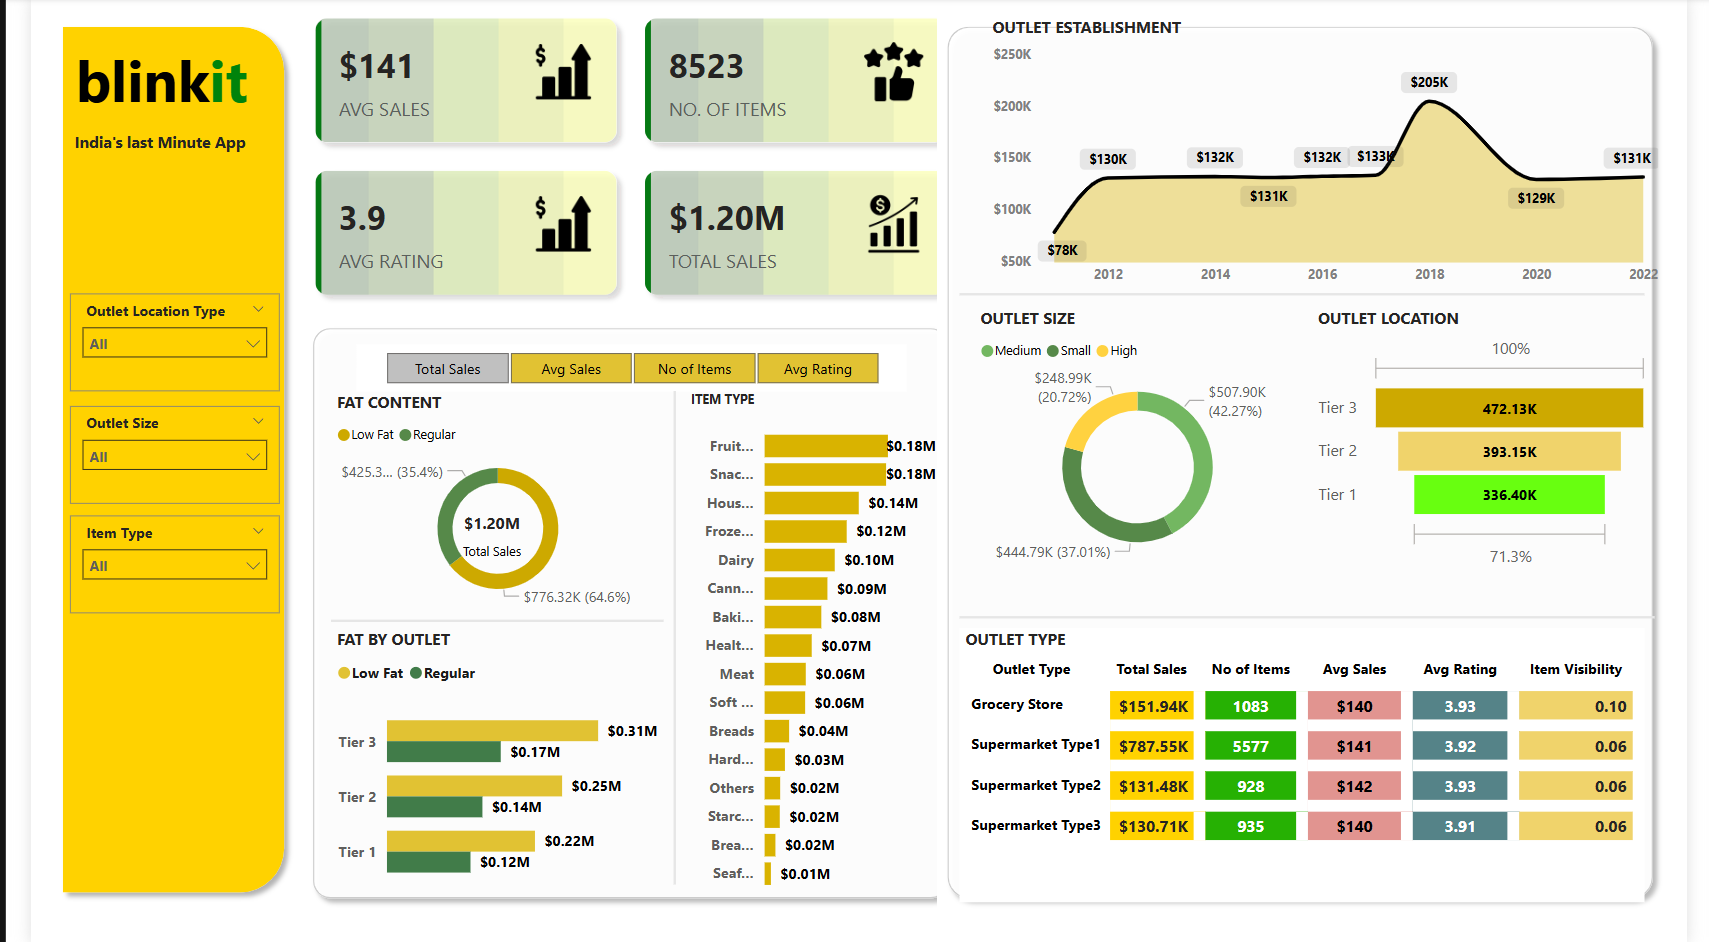

Layout of this report page (visuals, bound fields, positions):
{"tool":"powerbi","page":{"name":"Page 1","canvas":[1400,800],"ordinal":0},"visuals":[{"type":"shape","box":[18.2,14.9,205.4,750.2],"z":0},{"type":"textbox","box":[272.5,0,205,750],"z":1000},{"type":"textbox","box":[33.1,29.8,177.2,76.2],"z":2000},{"type":"textbox","box":[31.5,106,177.2,38.1],"z":3000},{"type":"cardVisual","fields":{"Data":["BlinkIT Grocery Data.Avg Sales","BlinkIT Grocery Data.No of Items","BlinkIT Grocery Data.Avg Rating","BlinkIT Grocery Data.Total Sales"]},"box":[223.6,0,569.7,270],"z":4000},{"type":"shape","box":[230.2,270,554.8,500.2],"z":5000},{"type":"donutChart","title":"FAT CONTENT","fields":{"Y":["BlinkIT Grocery Data.Total Sales"],"Category":["BlinkIT Grocery Data.Item Fat Content"]},"box":[253.4,332.9,281.5,187.1],"z":6000},{"type":"slicer","fields":{"Values":["Metrics.Metrics"]},"box":[274.9,293.1,465.4,39.7],"z":7000},{"type":"cardVisual","fields":{"Data":["BlinkIT Grocery Data.Total Sales"]},"box":[346.1,415.7,87.8,77.8],"z":8000},{"type":"clusteredBarChart","title":"FAT BY OUTLET","fields":{"Y":["BlinkIT Grocery Data.Total Sales"],"Category":["BlinkIT Grocery Data.Outlet Location Type"],"Series":["BlinkIT Grocery Data.Item Fat Content"]},"box":[253.7,532.8,281.6,232.1],"z":9000},{"type":"shape","box":[253.4,520,281.5,13.2],"z":10000},{"type":"shape","box":[534.9,332.9,18.2,417.4],"z":11000},{"type":"barChart","title":"ITEM TYPE","fields":{"Y":["BlinkIT Grocery Data.Total Sales"],"Category":["BlinkIT Grocery Data.Item Type"]},"box":[553.2,332.9,217,432.3],"z":12000},{"type":"shape","box":[766.8,14.9,614.4,755.2],"z":13000},{"type":"lineChart","title":"OUTLET ESTABLISHMENT ","fields":{"Y":["BlinkIT Grocery Data.Total Sales"],"Category":["BlinkIT Grocery Data.Outlet Establishment Year"]},"box":[808.2,14.9,573,235.2],"z":14000},{"type":"donutChart","title":"OUTLET SIZE","fields":{"Y":["BlinkIT Grocery Data.Total Sales"],"Category":["BlinkIT Grocery Data.Outlet Size"]},"box":[798.3,261.7,274.9,225.2],"z":15000},{"type":"funnel","title":"OUTLET LOCATION","fields":{"Y":["Sum(BlinkIT Grocery Data.Sales)"],"Category":["BlinkIT Grocery Data.Outlet Location Type"]},"box":[1083.1,261.7,289.8,225.2],"z":16000},{"type":"shape","box":[785,240.1,579.7,21.5],"z":17000},{"type":"shape","box":[785,513.4,587.9,19.9],"z":18000},{"type":"pivotTable","title":"OUTLET TYPE","fields":{"Rows":["BlinkIT Grocery Data.Outlet Type"],"Values":["BlinkIT Grocery Data.Total Sales","BlinkIT Grocery Data.No of Items","BlinkIT Grocery Data.Avg Sales","BlinkIT Grocery Data.Avg Rating","Avg(BlinkIT Grocery Data.Item Visibility)"]},"box":[785,533.3,579.7,231.9],"z":19000},{"type":"slicer","fields":{"Values":["BlinkIT Grocery Data.Outlet Location Type"]},"box":[33.1,250.1,177.2,82.8],"z":20000},{"type":"slicer","fields":{"Values":["BlinkIT Grocery Data.Outlet Size"]},"box":[33.1,344.5,177.2,82.8],"z":21000},{"type":"slicer","fields":{"Values":["BlinkIT Grocery Data.Item Type"]},"box":[33.1,437.2,177.2,82.8],"z":22000}]}

Visuals, with their boxes on the page's 1400x800 design canvas (x1, y1, x2, y2). These are canvas units, not pixel positions in the 1709x942 screenshot, which may show the page scaled, cropped or inside an application window:
shape: left=18, top=15, right=224, bottom=765
textbox: left=272, top=0, right=478, bottom=750
textbox: left=33, top=30, right=210, bottom=106
textbox: left=32, top=106, right=209, bottom=144
cardVisual - BlinkIT Grocery Data.Avg Sales x BlinkIT Grocery Data.No of Items: left=224, top=0, right=793, bottom=270
shape: left=230, top=270, right=785, bottom=770
"FAT CONTENT" donutChart: left=253, top=333, right=535, bottom=520
slicer - Metrics.Metrics: left=275, top=293, right=740, bottom=333
cardVisual - BlinkIT Grocery Data.Total Sales: left=346, top=416, right=434, bottom=494
"FAT BY OUTLET" clusteredBarChart: left=254, top=533, right=535, bottom=765
shape: left=253, top=520, right=535, bottom=533
shape: left=535, top=333, right=553, bottom=750
"ITEM TYPE" barChart: left=553, top=333, right=770, bottom=765
shape: left=767, top=15, right=1381, bottom=770
"OUTLET ESTABLISHMENT " lineChart: left=808, top=15, right=1381, bottom=250
"OUTLET SIZE" donutChart: left=798, top=262, right=1073, bottom=487
"OUTLET LOCATION" funnel: left=1083, top=262, right=1373, bottom=487
shape: left=785, top=240, right=1365, bottom=262
shape: left=785, top=513, right=1373, bottom=533
"OUTLET TYPE" pivotTable: left=785, top=533, right=1365, bottom=765
slicer - BlinkIT Grocery Data.Outlet Location Type: left=33, top=250, right=210, bottom=333
slicer - BlinkIT Grocery Data.Outlet Size: left=33, top=344, right=210, bottom=427
slicer - BlinkIT Grocery Data.Item Type: left=33, top=437, right=210, bottom=520
